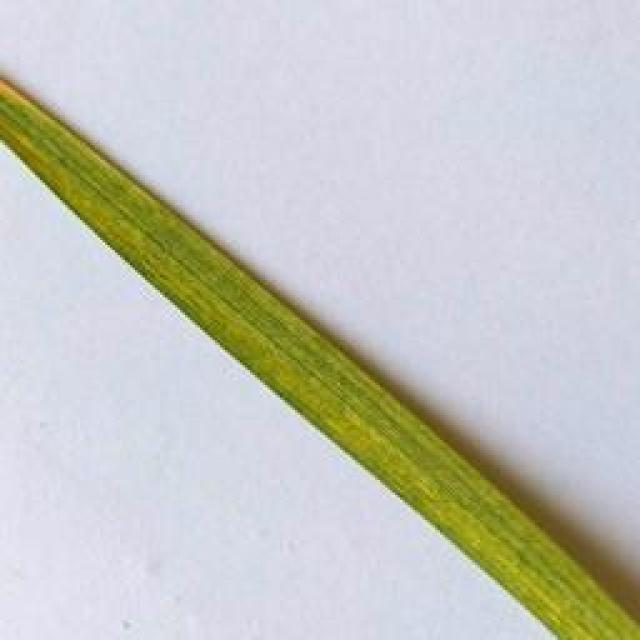Bacterial_Blight: (0, 83, 60, 133)
